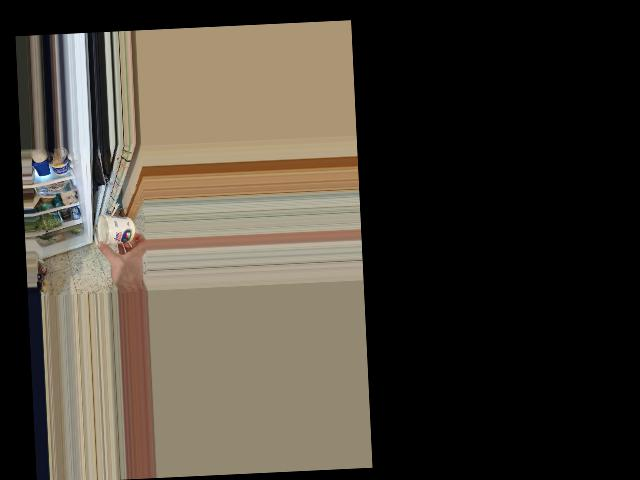cotage: (96, 212, 137, 247)
